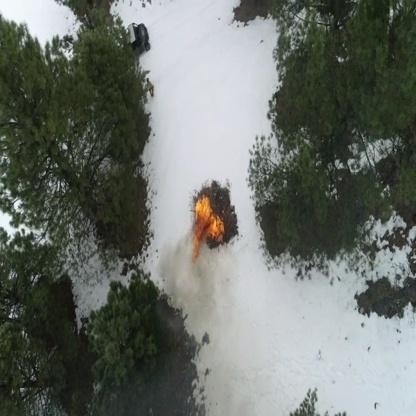Fire: (189, 192, 226, 263)
